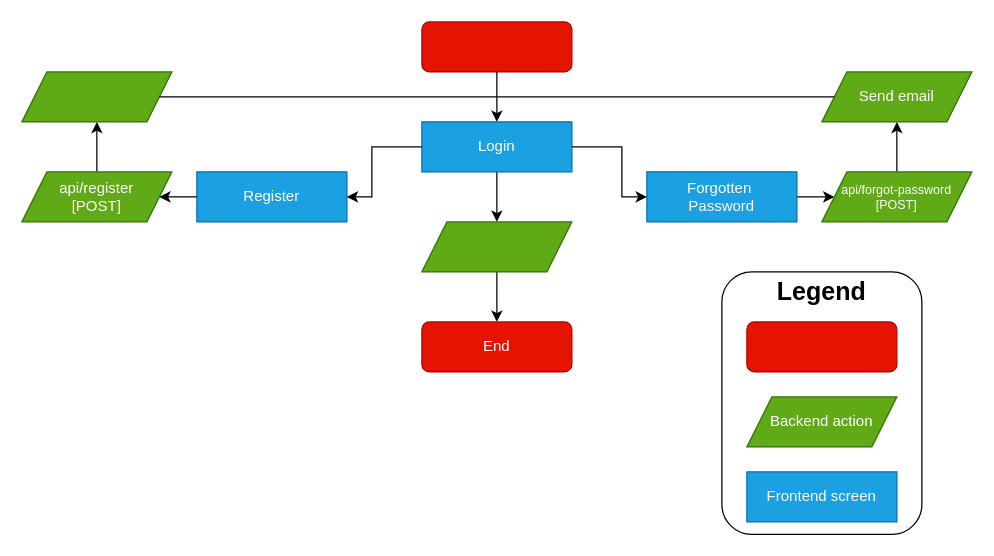
The diagram is 994 pixels wide and 556 high, and some of its shapes have lost their labels. The centre of each missing label's shape, as x and y in pixels:
api/login [POST]: pixel 496 246
Send confirmation email: pixel 96 96
Start: pixel 496 46
Start/end: pixel 821 346
